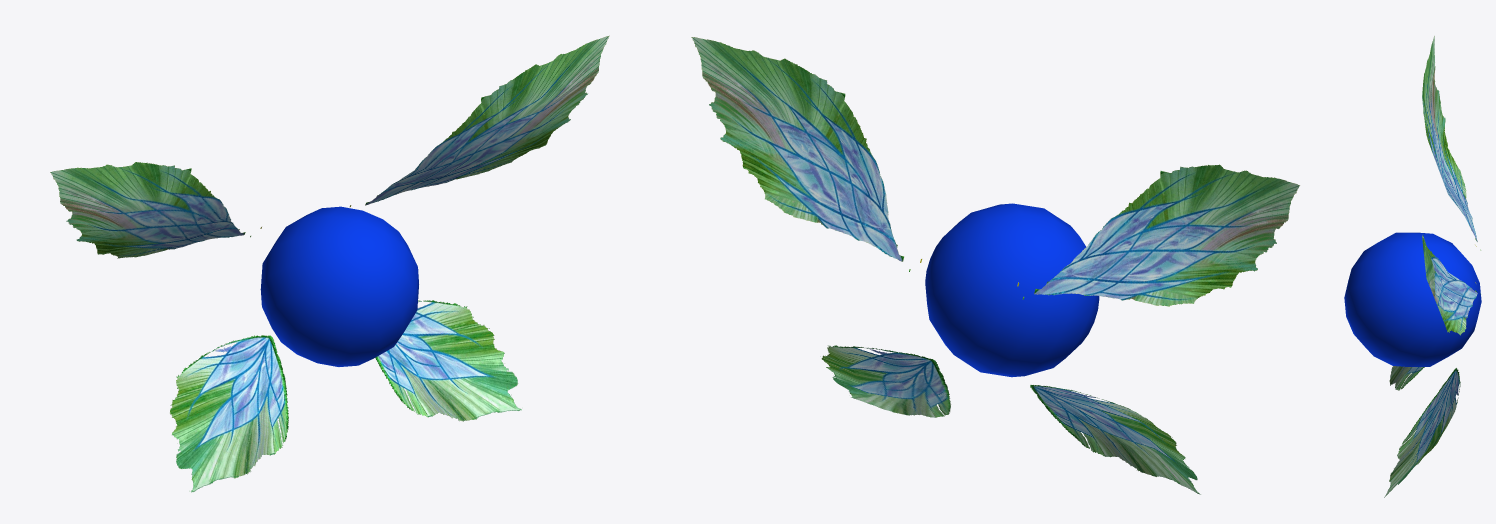
The model's file is hada_moviendose.fbx.
3 views of the same model, side by side, from view 1: azimuth 30°, elevation 25°; view 2: azimuth 150°, elevation 25°; view 3: azimuth 270°, elevation 25° (orthographic). The views are drawn at different scales.
Parts seen in each view (by area): view 1: hada; view 2: hada; view 3: hada.
Part boxes in pixels (box(x1,y1,x2,y2)): hada: box(50, 35, 609, 492); hada: box(691, 37, 1299, 494); hada: box(1344, 36, 1481, 497).
Bounding box in the file's own units: 35.71 × 20.95 × 8.42.
Materials: 3 (2 with a texture image).
